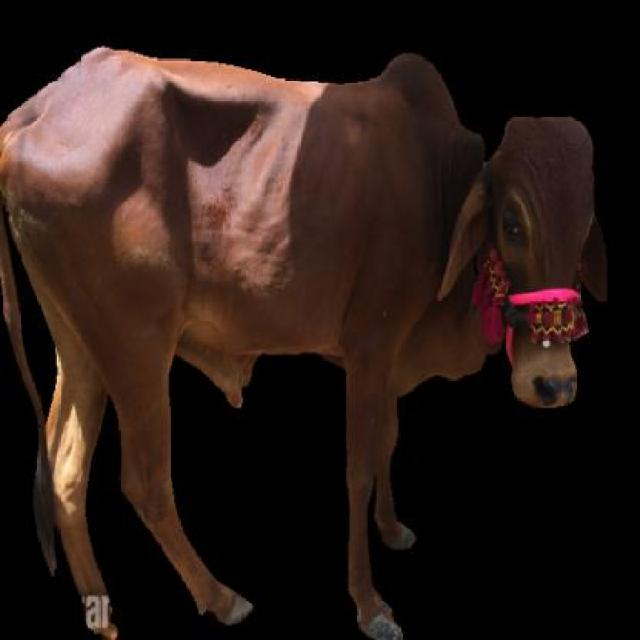Cow: (0, 39, 606, 638)
